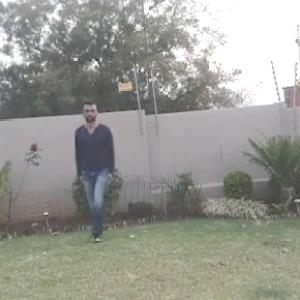follow: (71, 98, 120, 240)
